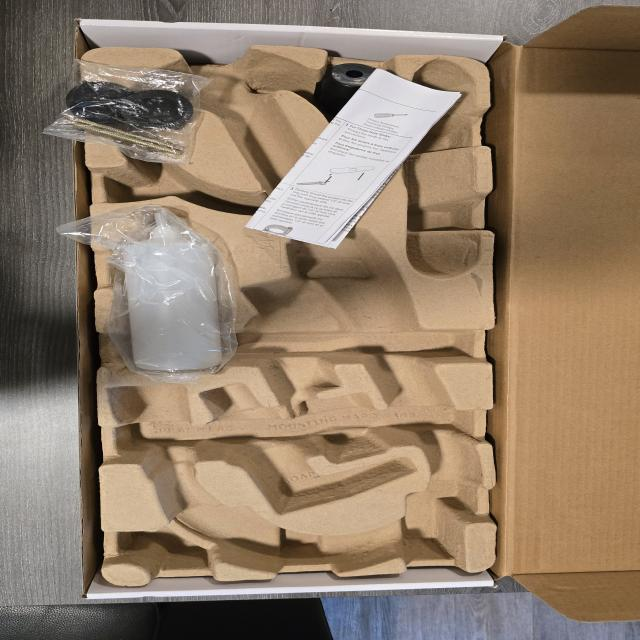1m: (107, 47, 476, 574)
2m: (201, 383, 409, 511)
3: (119, 208, 220, 371)
4m: (401, 60, 485, 279)
5o: (317, 64, 382, 122)
6m: (97, 148, 221, 207)
7: (43, 58, 219, 168)
8: (241, 67, 466, 250)
